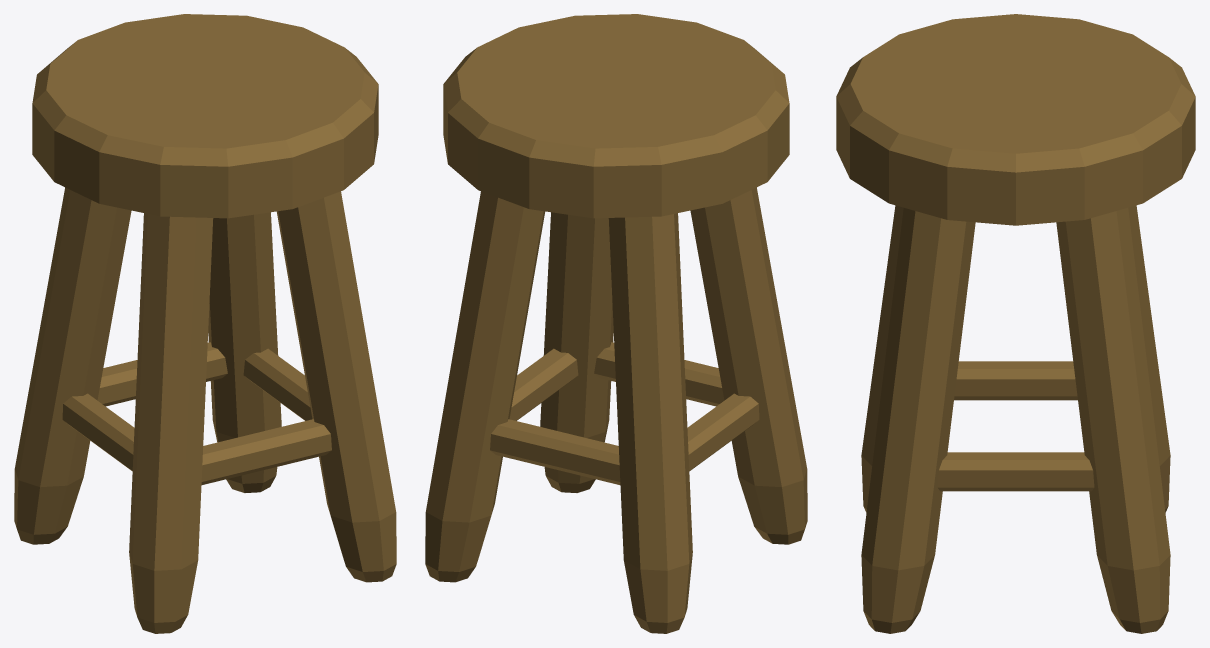
File: stool.glb
3 renders of one model, left to right at view 1: azimuth 30°, elevation 25°; view 2: azimuth 150°, elevation 25°; view 3: azimuth 270°, elevation 25°, orthographic. The views are drawn at different scales.
Parts seen in each view (by area): view 1: Legs, Seat, Bars; view 2: Legs, Seat, Bars; view 3: Legs, Seat, Bars.
Boxes of the visible parts, x1,y1,x2,y2 form: Legs: (14, 187, 396, 633); Seat: (32, 14, 378, 218); Bars: (62, 342, 331, 484); Legs: (425, 187, 807, 633); Seat: (443, 14, 789, 218); Bars: (490, 342, 759, 484); Legs: (861, 205, 1170, 633); Seat: (836, 14, 1195, 225); Bars: (937, 361, 1094, 491).
Size of the model in its own units: 2 by 3 by 2.
